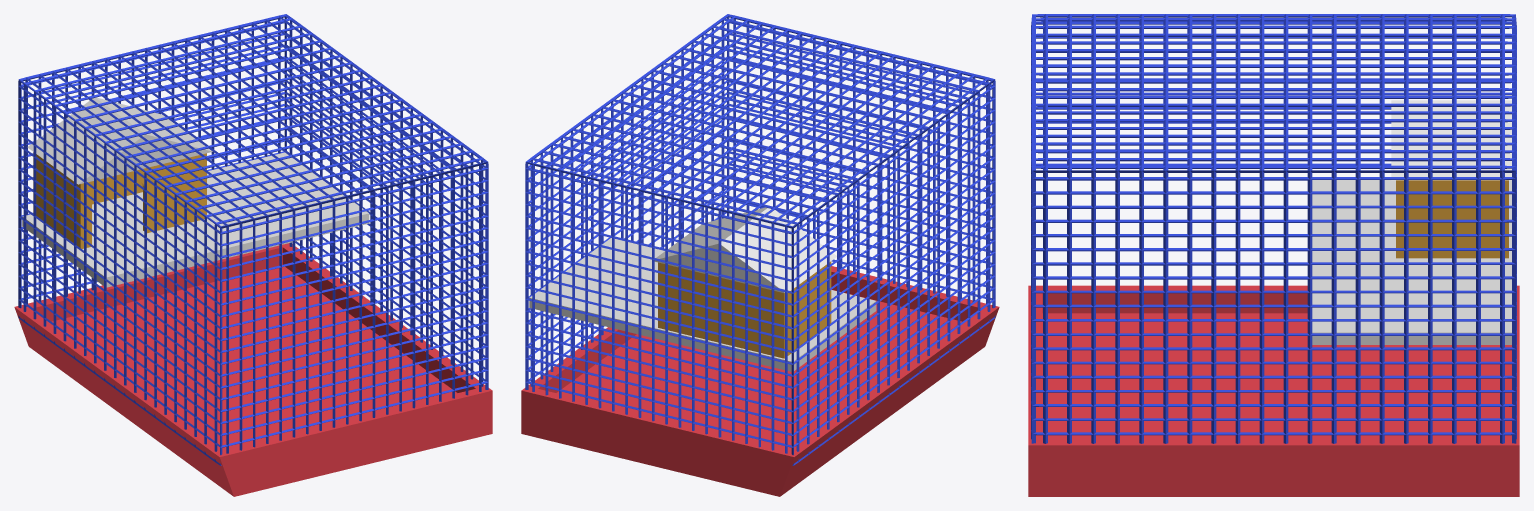
The model's file is Cage.fbx.
The picture shows the model from 3 angles, left to right: view 1: azimuth 30°, elevation 25°; view 2: azimuth 150°, elevation 25°; view 3: azimuth 270°, elevation 25°; orthographic projection. The views are drawn at different scales.
Parts seen in each view (by area): view 1: Куб, Cube, Куб.001, Cube.001, Куб.006; view 2: Куб, Cube, Куб.001, Cube.001, Куб.006; view 3: Куб, Cube, Куб.001, Cube.001, Куб.006.
Part boxes in pixels (x1=…): Куб: x1=18, y1=14, x2=488, y2=465; Cube: x1=14, y1=243, x2=492, y2=496; Куб.001: x1=22, y1=152, x2=369, y2=287; Cube.001: x1=33, y1=152, x2=206, y2=248; Куб.006: x1=27, y1=97, x2=212, y2=184; Куб: x1=525, y1=14, x2=995, y2=465; Cube: x1=521, y1=266, x2=999, y2=496; Куб.001: x1=529, y1=238, x2=876, y2=371; Cube.001: x1=658, y1=261, x2=831, y2=358; Куб.006: x1=654, y1=207, x2=836, y2=293; Куб: x1=1031, y1=14, x2=1516, y2=443; Cube: x1=1028, y1=285, x2=1519, y2=496; Куб.001: x1=1312, y1=180, x2=1511, y2=344; Cube.001: x1=1396, y1=180, x2=1508, y2=258; Куб.006: x1=1391, y1=100, x2=1511, y2=180.
Size of the model in its own units: 1320 by 1256 by 1720.
